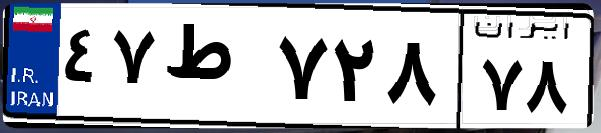2: (330, 28, 385, 110)
4: (57, 26, 110, 100)
7: (270, 28, 330, 110), (475, 38, 525, 113), (110, 28, 158, 98)
8: (385, 28, 445, 110), (525, 38, 570, 115)
ط: (158, 20, 270, 120)
